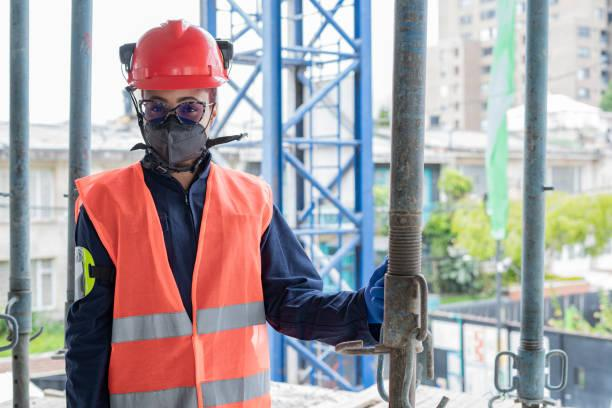goggle: (127, 96, 219, 127)
helmet: (114, 12, 235, 95)
vest: (68, 155, 282, 408)
